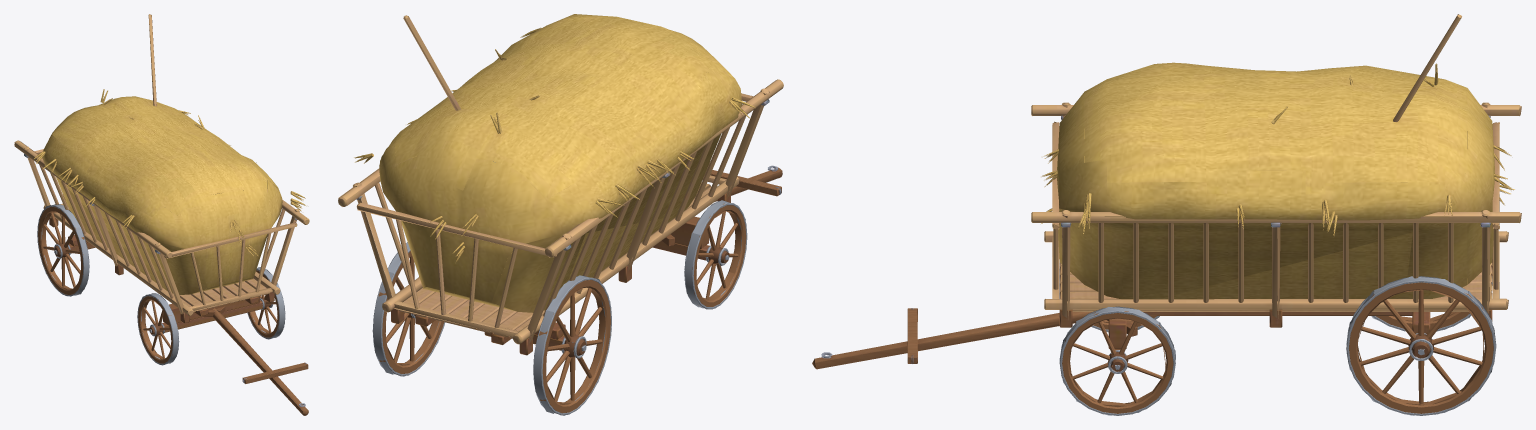
The model's file is carro_heno.glb.
The picture shows the model from 3 angles, left to right: view 1: azimuth 30°, elevation 25°; view 2: azimuth 150°, elevation 25°; view 3: azimuth 270°, elevation 25°; orthographic projection. The views are drawn at different scales.
Visible parts, largest first — view 1: hay-wagon_body; view 2: hay-wagon_body; view 3: hay-wagon_body.
Part boxes in pixels (x1,y1,x2,y2): hay-wagon_body: [14, 14, 309, 415]; hay-wagon_body: [338, 14, 783, 415]; hay-wagon_body: [812, 14, 1521, 415].
Bounding box in the file's own units: 2.47 × 3.36 × 5.5.
Materials: 6 (2 with a texture image).
